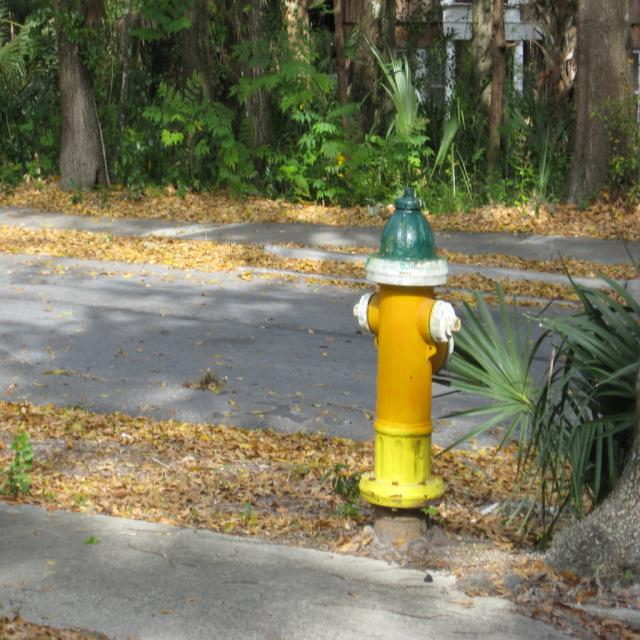fire_hydrant: (354, 187, 461, 508)
